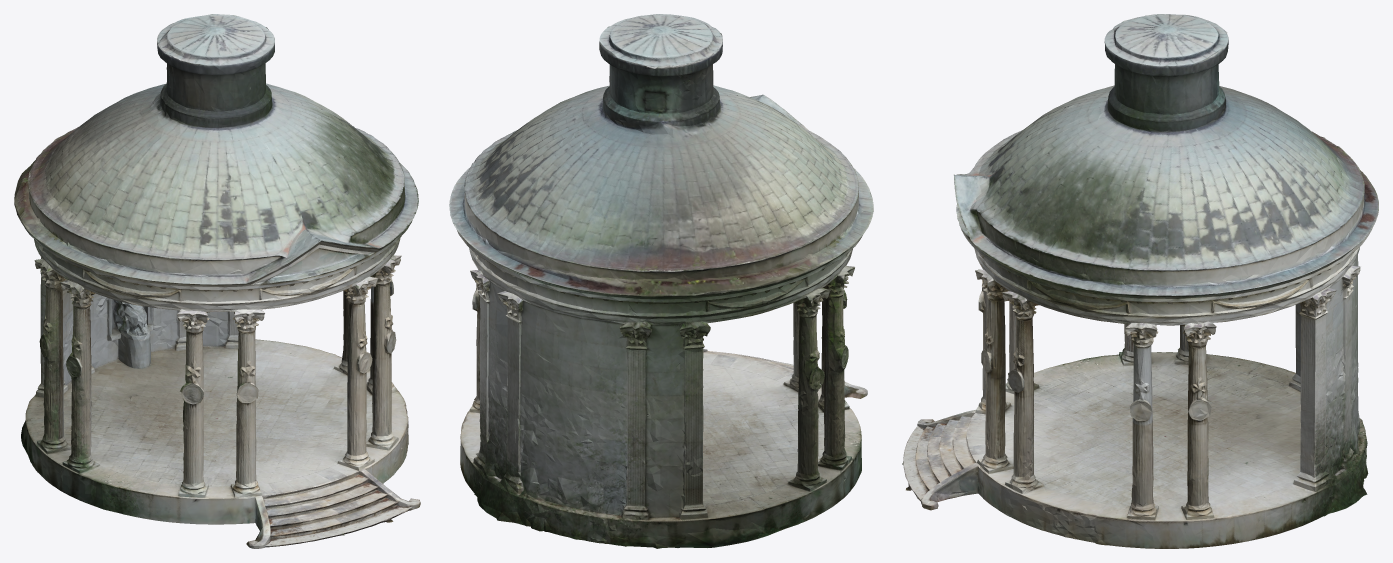
File: temple_low.gltf
The picture shows the model from 3 angles, left to right: view 1: azimuth 30°, elevation 25°; view 2: azimuth 150°, elevation 25°; view 3: azimuth 270°, elevation 25°; orthographic projection. The views are drawn at different scales.
Parts seen in each view (by area): view 1: temple_all_uv; view 2: temple_all_uv; view 3: temple_all_uv.
Part boxes in pixels (x1,y1,x2,y2): temple_all_uv: (14, 14, 420, 548); temple_all_uv: (449, 14, 873, 548); temple_all_uv: (902, 14, 1378, 548).
Bounding box in the file's own units: 12.12 × 13.69 × 13.6.
